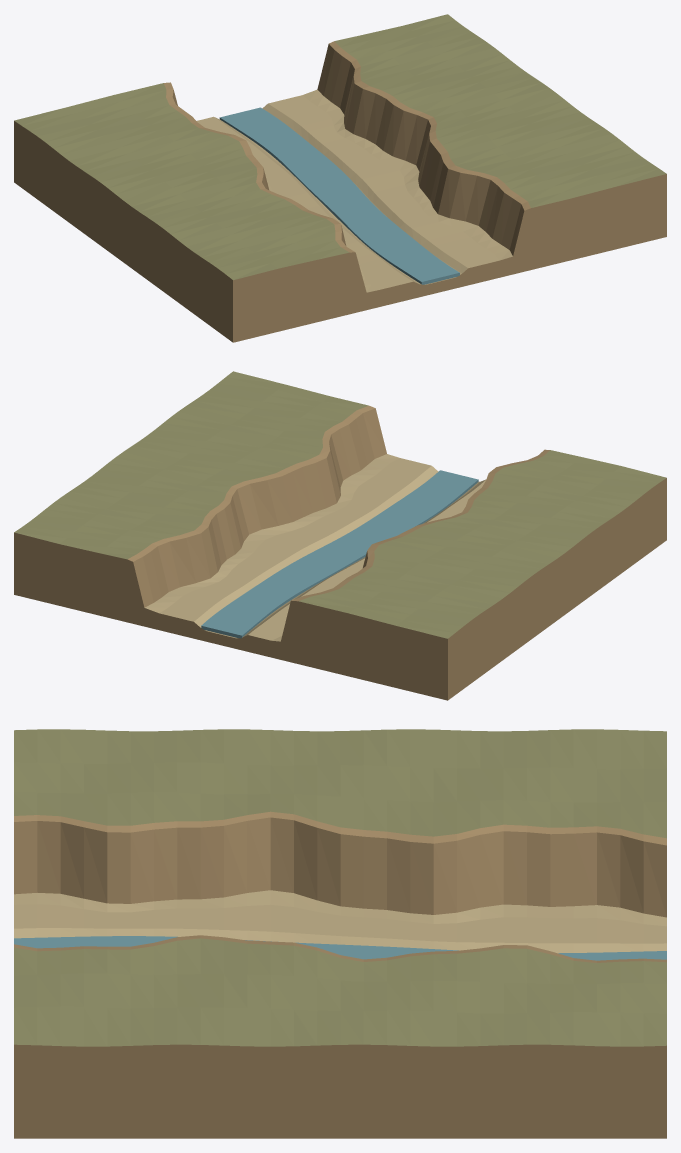
The picture shows the model from 3 angles, top to bottom: view 1: azimuth 30°, elevation 25°; view 2: azimuth 150°, elevation 25°; view 3: azimuth 270°, elevation 25°; orthographic projection. The views are drawn at different scales.
Visible parts, largest first — view 1: abandoned_floodplain_benches_clear_risers_and_lower_active_f, opaque_active_river_water_volume; view 2: abandoned_floodplain_benches_clear_risers_and_lower_active_f, opaque_active_river_water_volume; view 3: abandoned_floodplain_benches_clear_risers_and_lower_active_f, opaque_active_river_water_volume.
Boxes of the visible parts, bbox=[...] form: abandoned_floodplain_benches_clear_risers_and_lower_active_f: bbox=[14, 14, 666, 342]; opaque_active_river_water_volume: bbox=[219, 107, 459, 284]; abandoned_floodplain_benches_clear_risers_and_lower_active_f: bbox=[14, 371, 666, 700]; opaque_active_river_water_volume: bbox=[201, 470, 478, 638]; abandoned_floodplain_benches_clear_risers_and_lower_active_f: bbox=[14, 729, 666, 1138]; opaque_active_river_water_volume: bbox=[14, 936, 666, 960].
Size of the model in its own units: 80 by 11.12 by 70.
